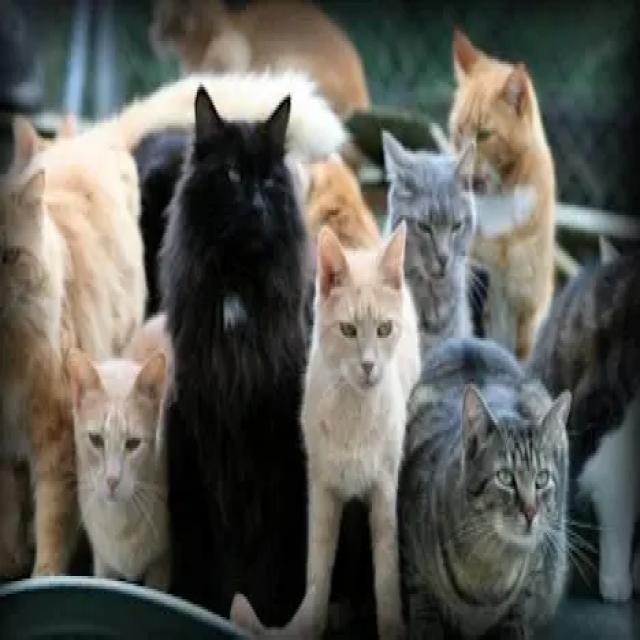cat: (138, 87, 314, 619), (0, 136, 146, 574), (302, 159, 420, 635), (398, 339, 570, 635), (528, 253, 640, 600), (449, 30, 554, 359), (69, 314, 172, 589), (384, 131, 475, 359)
